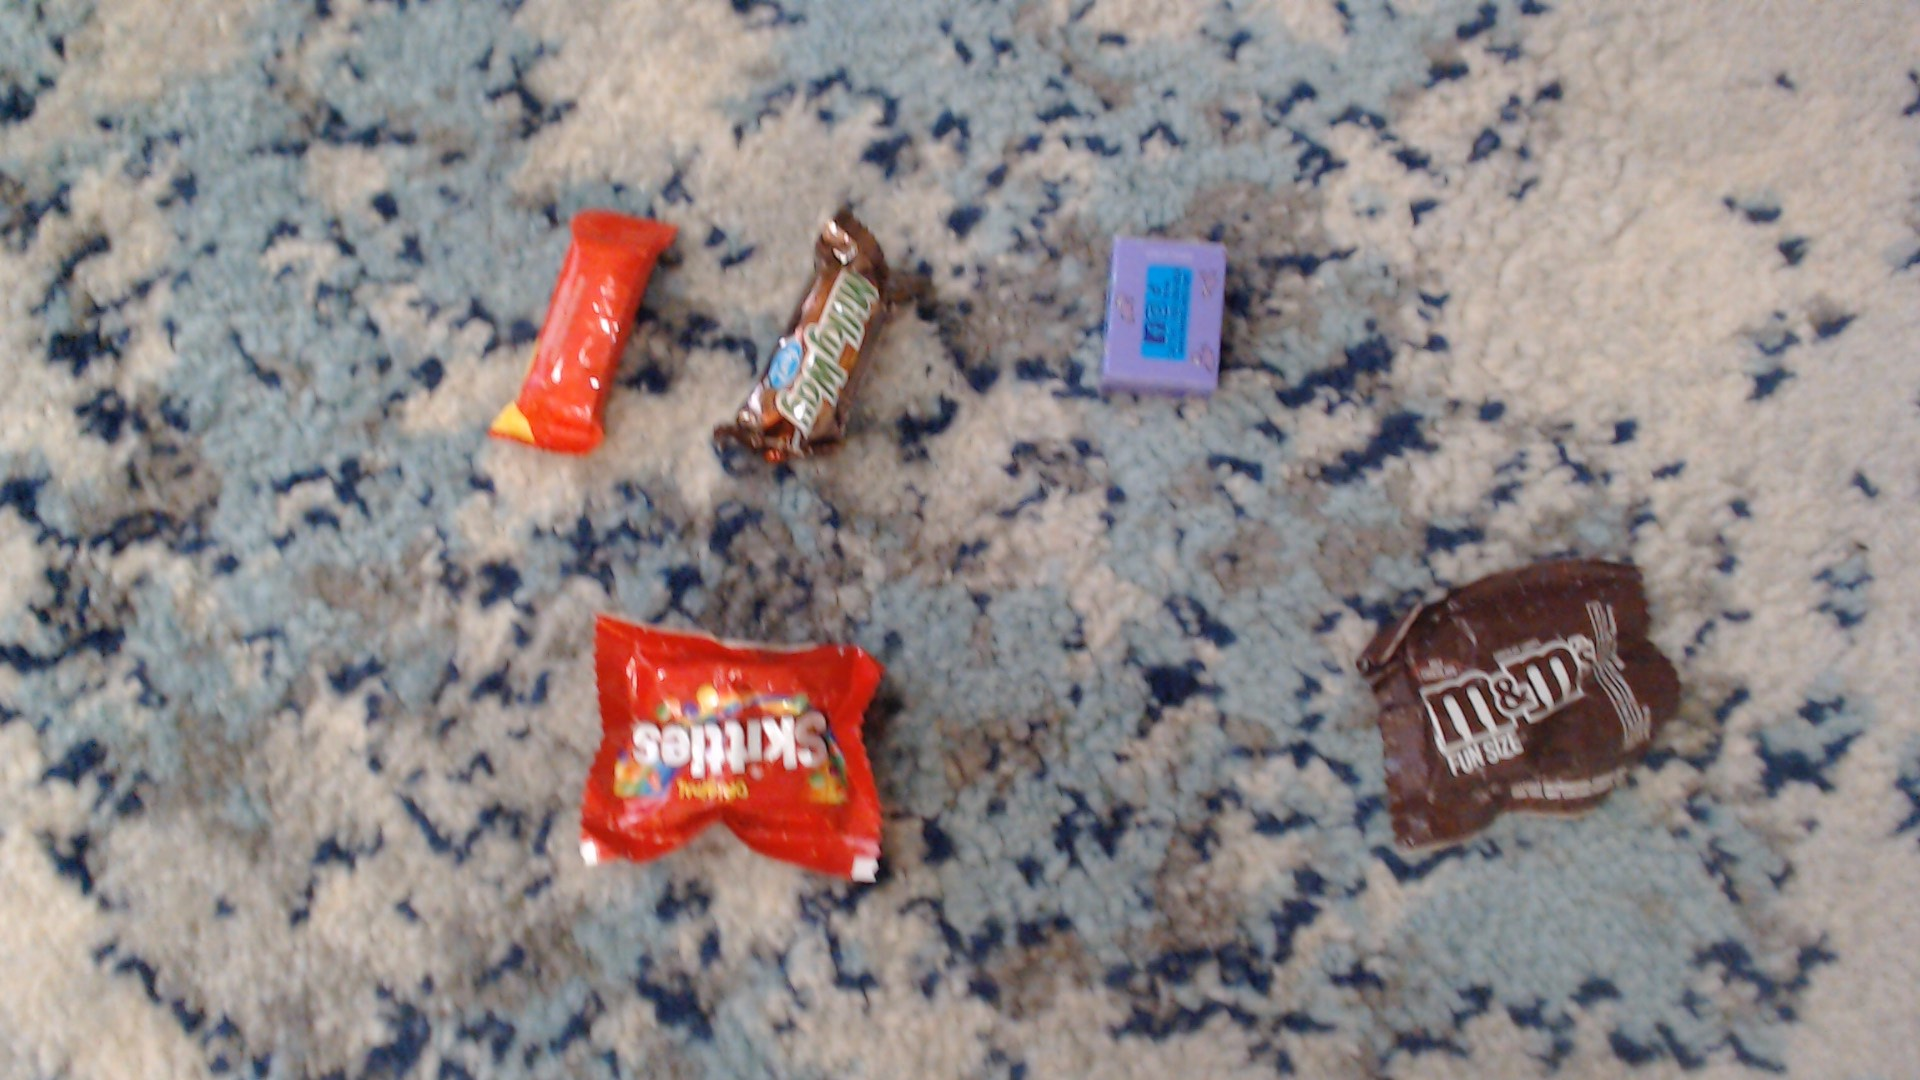MMs_peanut: (1336, 535, 1720, 836)
milky_way: (729, 175, 872, 479)
nerds: (1098, 204, 1287, 439)
skittles: (551, 601, 930, 909)
starbust: (498, 183, 650, 448)
